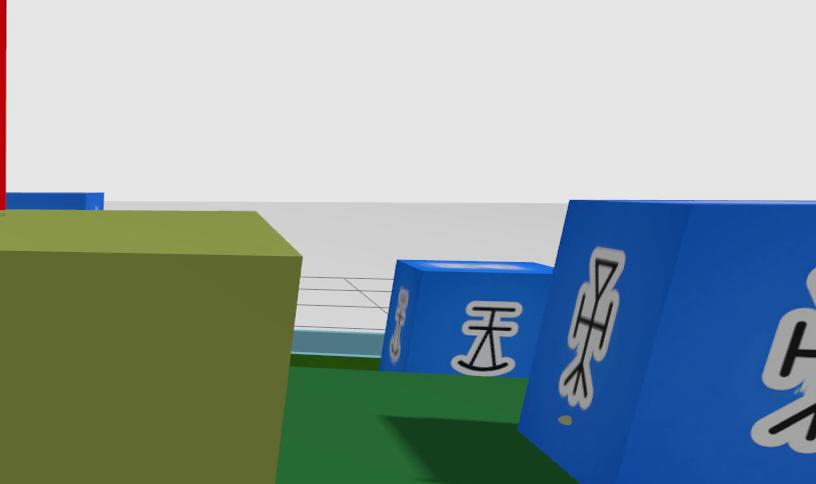KFS_FAKE: (0, 0, 8, 210)
KFS_REAL: (519, 202, 815, 484), (383, 259, 555, 376), (558, 247, 625, 409), (751, 308, 815, 453), (455, 301, 523, 372)
